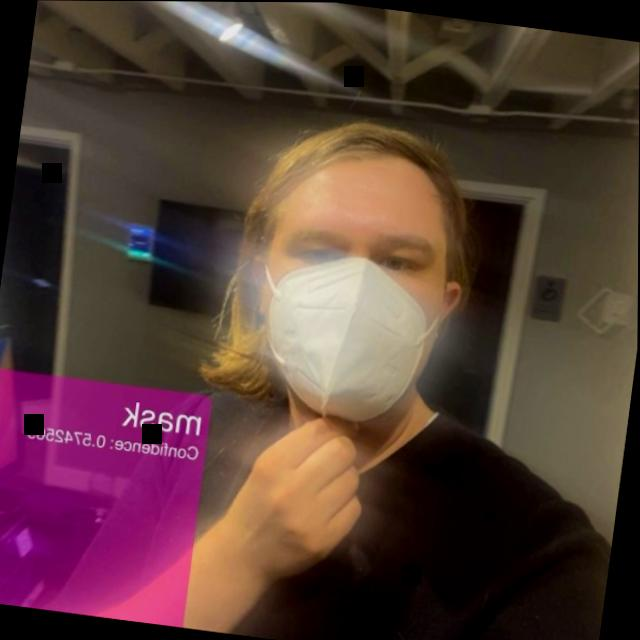Mask: (212, 102, 506, 454)
